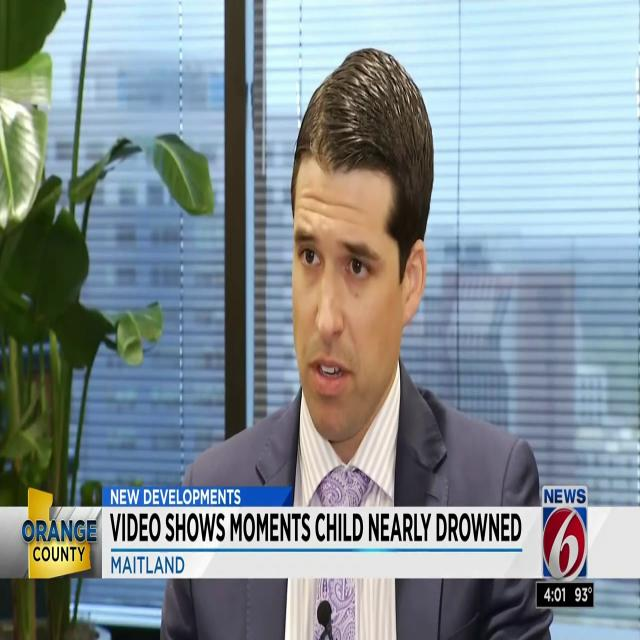adult: (162, 41, 550, 640)
